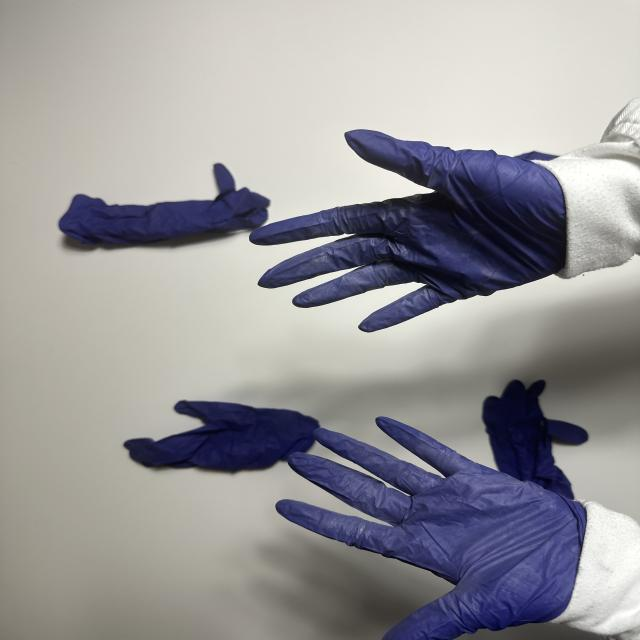gloves_contaminated: (276, 417, 586, 640), (250, 130, 566, 332)
